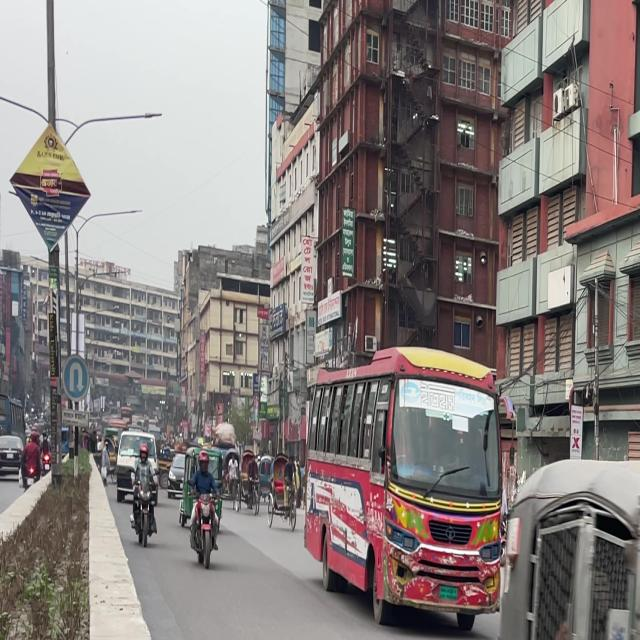bus: (299, 314, 502, 616)
motorbike: (181, 441, 224, 564), (117, 440, 165, 544)
rickshaw: (455, 379, 640, 639)
